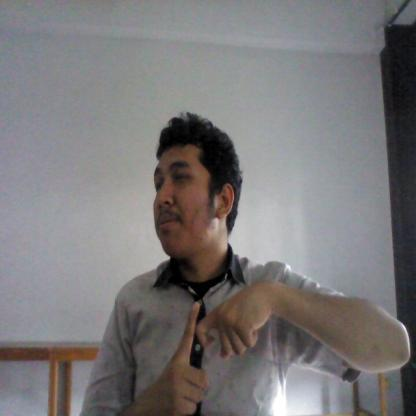K: (170, 278, 272, 416)
